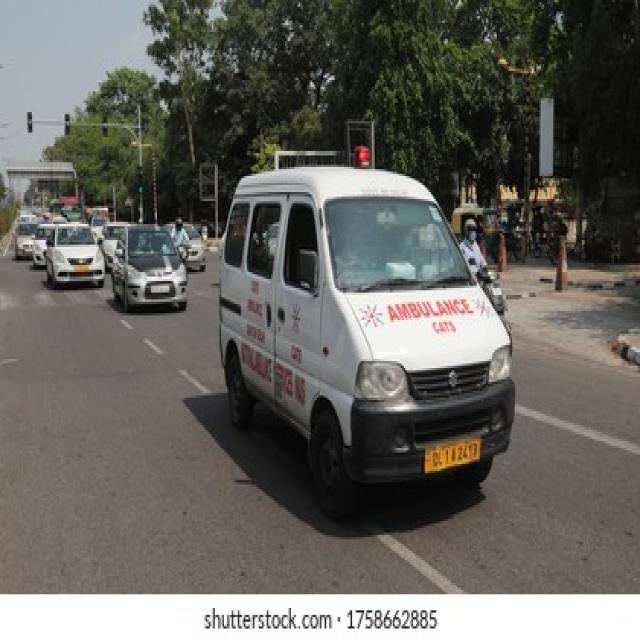ambulance: (221, 147, 516, 510)
